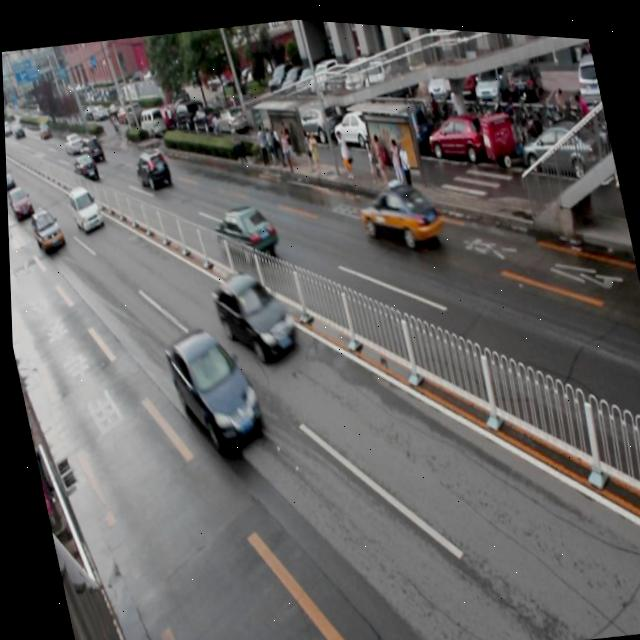car: (157, 317, 264, 454), (205, 260, 300, 367), (352, 164, 448, 253), (208, 196, 279, 259), (65, 181, 104, 233), (130, 142, 172, 189), (26, 204, 65, 254)
